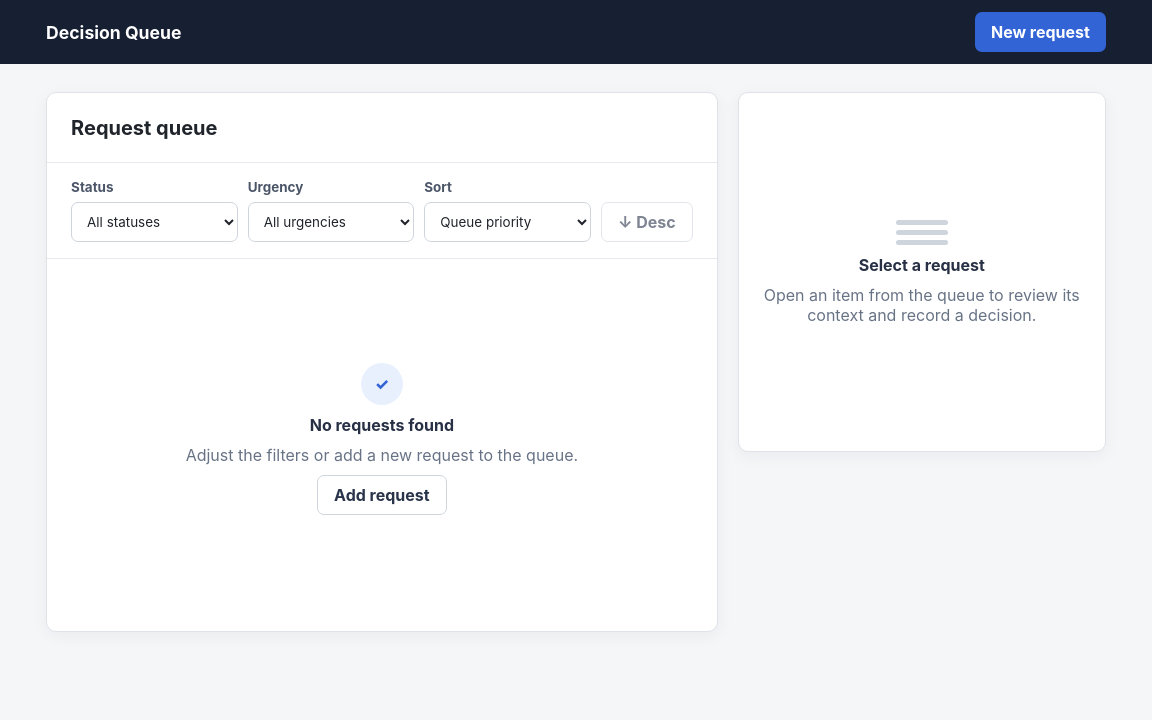
it: Decision Queue › creates a request and opens its detail
This screenshot has width=1152, height=720.
Expected: the text "No requests found" is shown, [310, 415, 454, 435]
Click the button "New request" at (1040, 32), box [975, 12, 1106, 52]
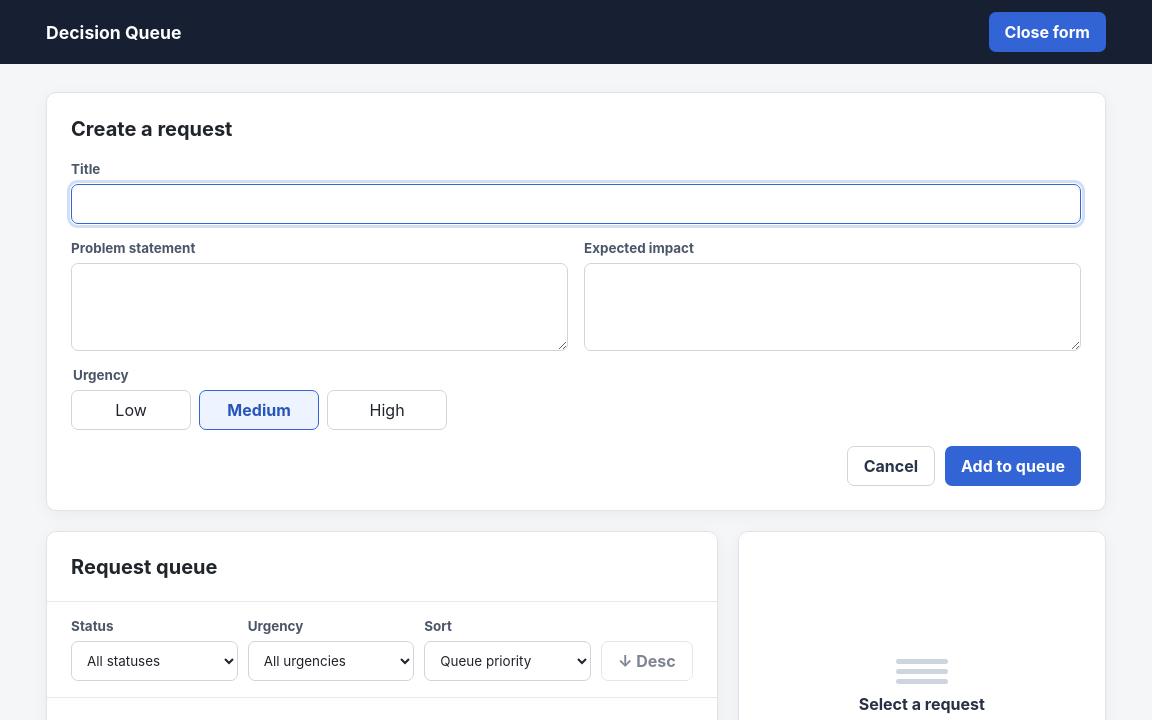
Type "Export partner request history" into the field labelled "Title" at (576, 204), box [71, 184, 1081, 224]
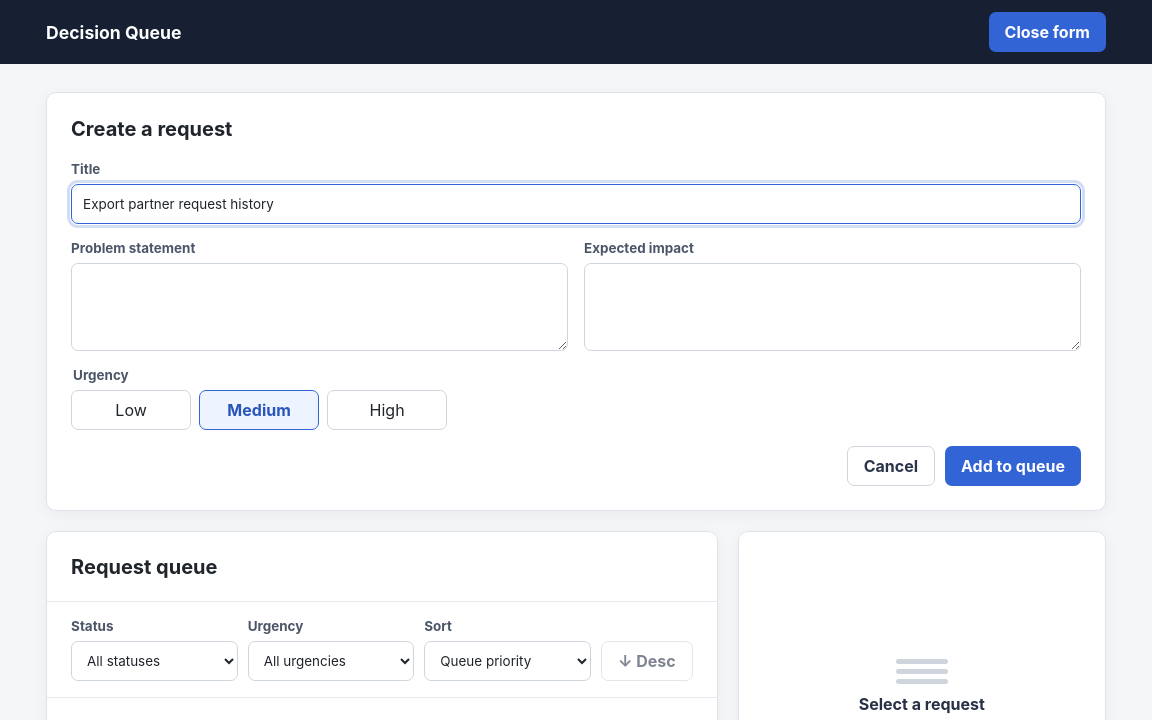
Type "Partners currently prepare reports manually." into the text box labelled "Problem statement" at (320, 307), box [71, 263, 568, 351]
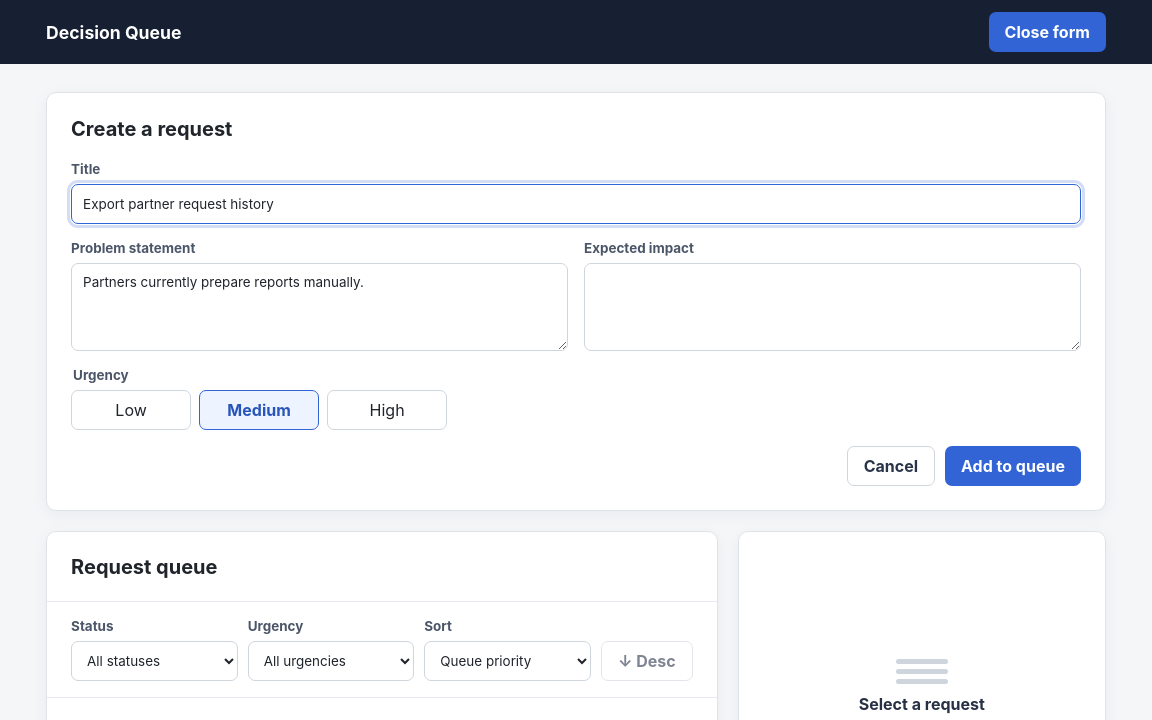
Type "Reduce recurring reporting work." into the text box labelled "Expected impact" at (832, 307), box [584, 263, 1081, 351]
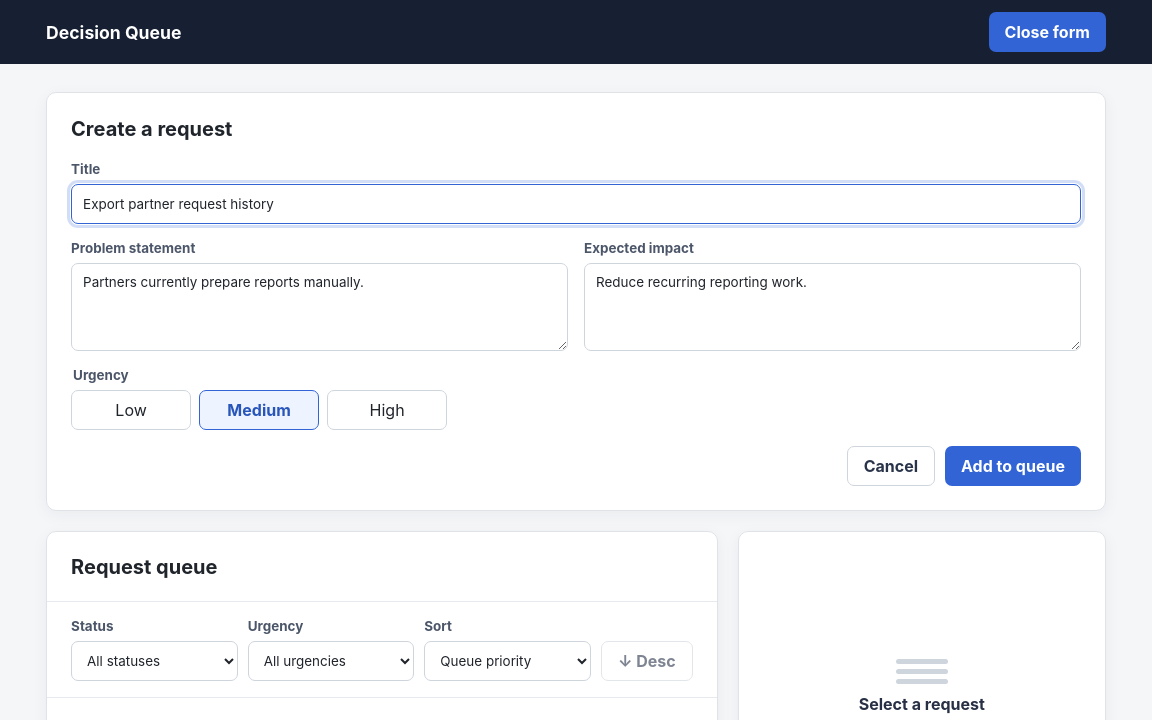
Click the radio button labelled "high" at (387, 410), box [327, 390, 447, 430]
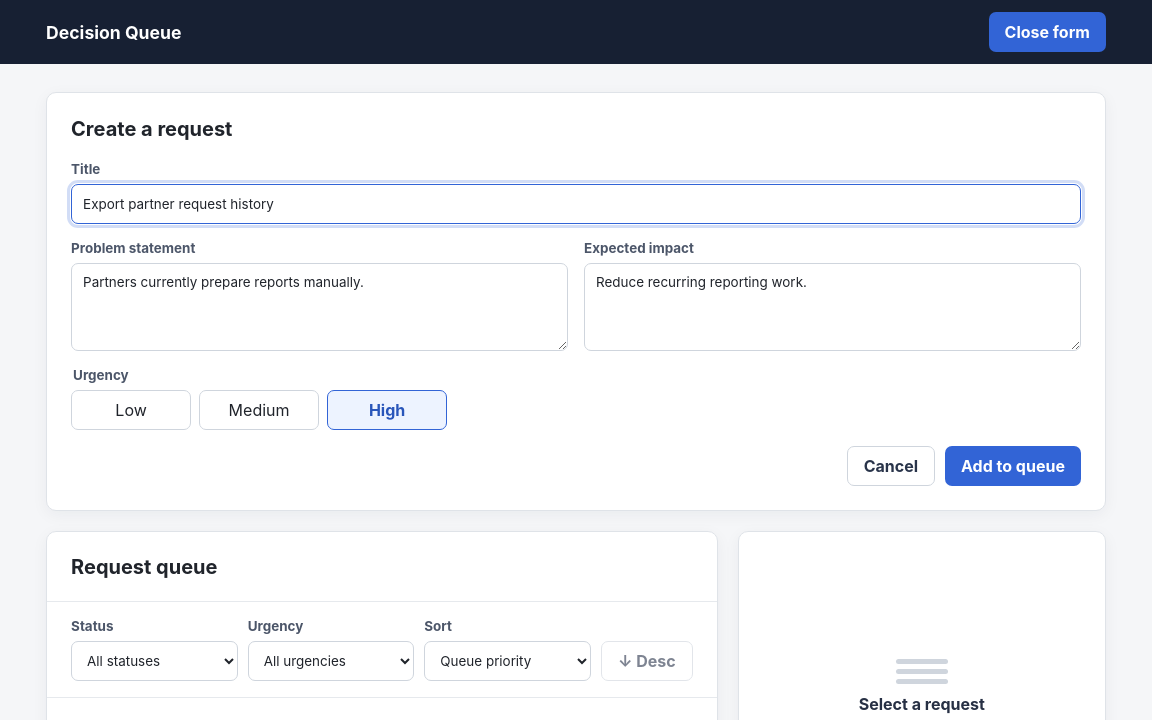
Click the button "Add to queue" at (1013, 466), box [945, 446, 1081, 486]
(page scrolled)
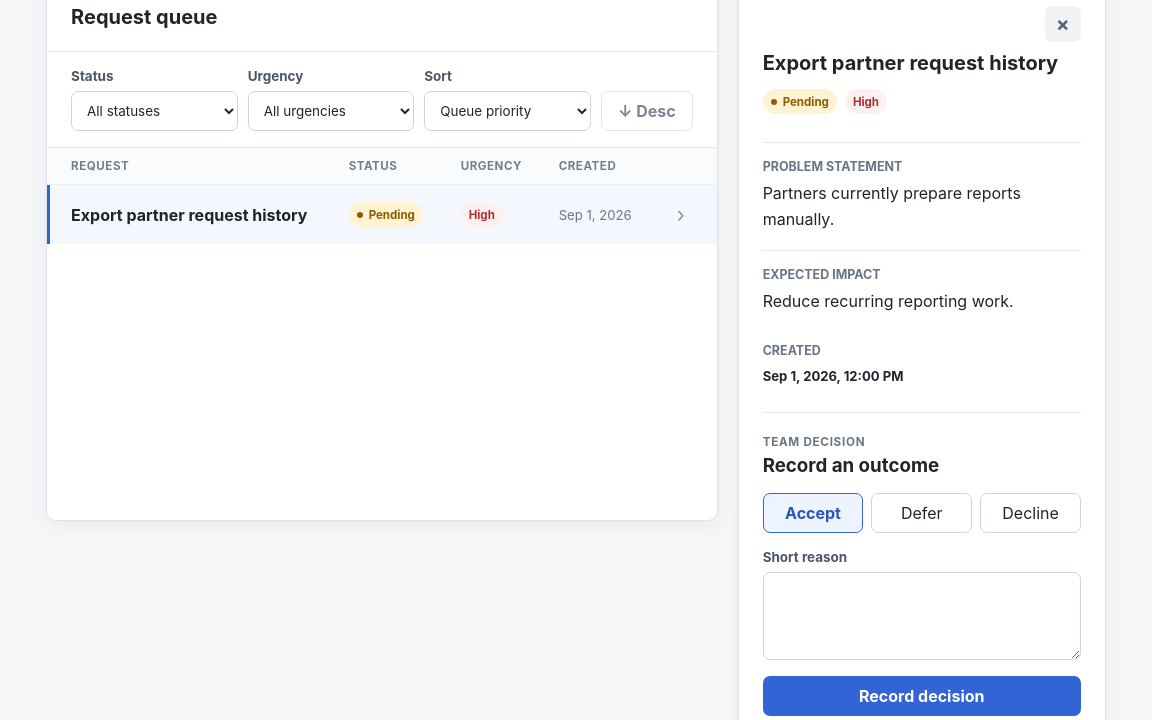
Expected: the heading "Create a request" is gone
